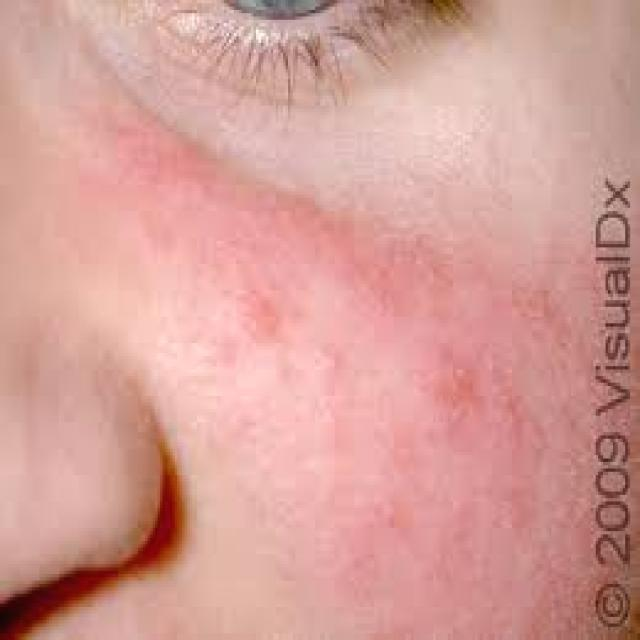Rosacea: (94, 100, 587, 609)
